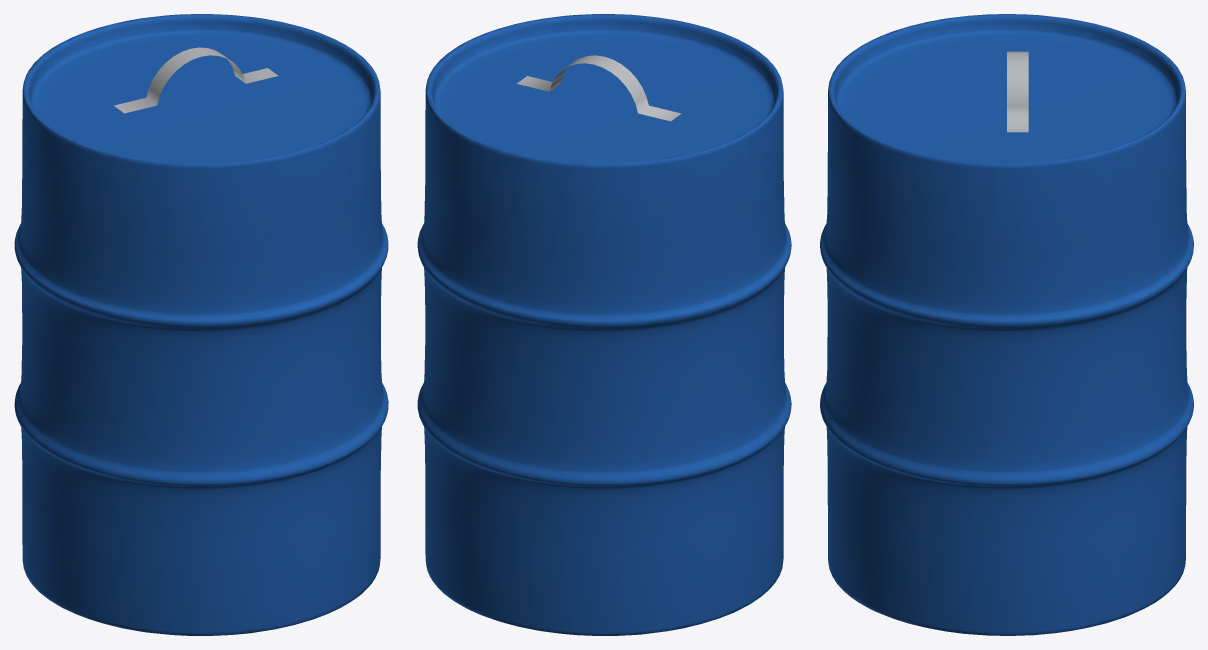
The model's file is tambor_lixo_realista.glb.
3 renders of one model, left to right at view 1: azimuth 30°, elevation 25°; view 2: azimuth 150°, elevation 25°; view 3: azimuth 270°, elevation 25°, orthographic.
Parts seen in each view (by area): view 1: Cylinder, Circle; view 2: Cylinder, Circle; view 3: Cylinder, Circle.
Boxes of the visible parts, box(x1,y1,x2,y2) form: Cylinder: box(14, 14, 388, 635); Circle: box(114, 47, 278, 113); Cylinder: box(417, 14, 791, 635); Circle: box(517, 55, 681, 121); Cylinder: box(820, 14, 1193, 635); Circle: box(1007, 51, 1028, 132).
Bounding box in the file's own units: 0.6132 × 0.9118 × 0.6132.
